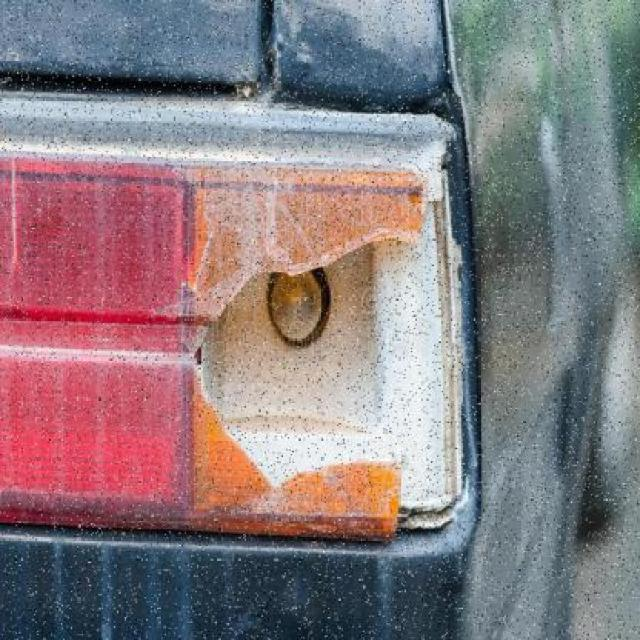Signlight-Damage: (179, 100, 483, 539)
Taillight-Damage: (0, 82, 510, 571)
